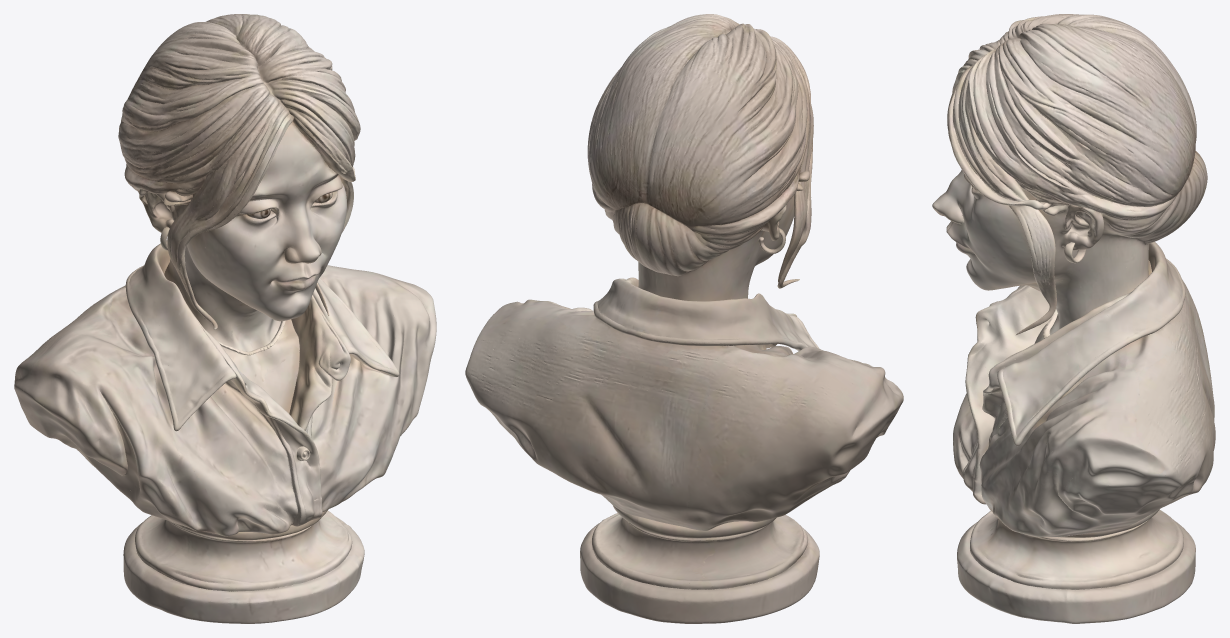
The model's file is 11_조예빈.compressed.glb.
3 renders of one model, left to right at view 1: azimuth 30°, elevation 25°; view 2: azimuth 150°, elevation 25°; view 3: azimuth 270°, elevation 25°, orthographic.
Parts seen in each view (by area): view 1: model; view 2: model; view 3: model.
Boxes of the visible parts, x1,y1,x2,y2 form: model: (14,14,436,623); model: (465,14,903,623); model: (932,14,1215,623).
Size of the model in its own units: 1.44 by 1.9 by 0.8858.
Materials: 1 (1 with a texture image).
